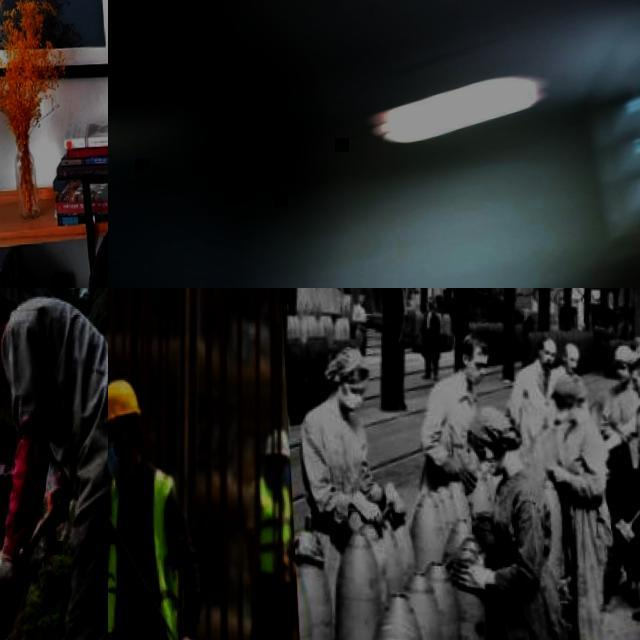helmet: (108, 380, 148, 429), (260, 428, 288, 462)
vest: (108, 466, 184, 640), (248, 481, 294, 574)
